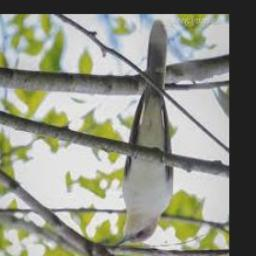Cuckoo: (114, 21, 172, 245)
